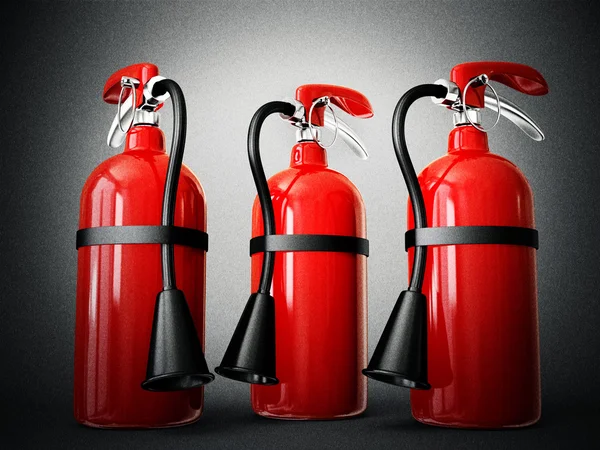fire_extinguisher: (363, 60, 549, 430), (215, 83, 374, 421), (73, 62, 213, 430)
